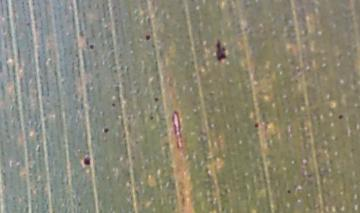tarspot: (214, 38, 227, 61), (81, 157, 92, 166), (336, 113, 344, 121), (102, 126, 109, 134), (88, 43, 95, 51), (110, 101, 117, 108), (144, 34, 151, 41), (148, 114, 154, 122), (285, 188, 291, 196), (153, 96, 160, 102), (253, 122, 259, 129), (76, 201, 81, 208)
